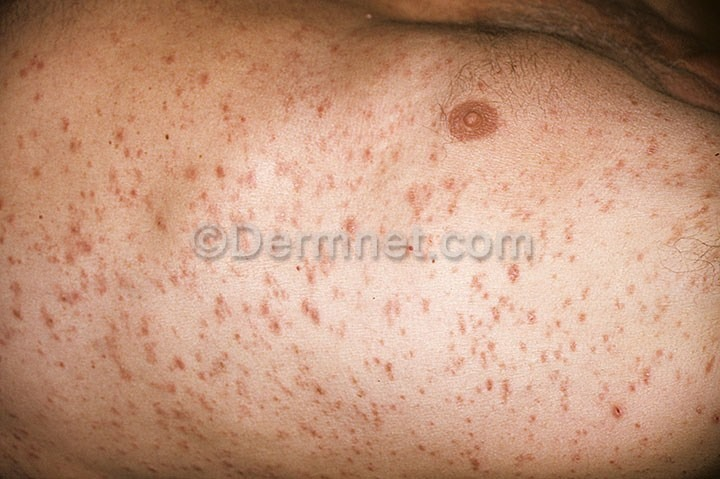Psoriasis: (27, 265, 672, 471), (12, 43, 423, 213), (594, 103, 714, 248)
